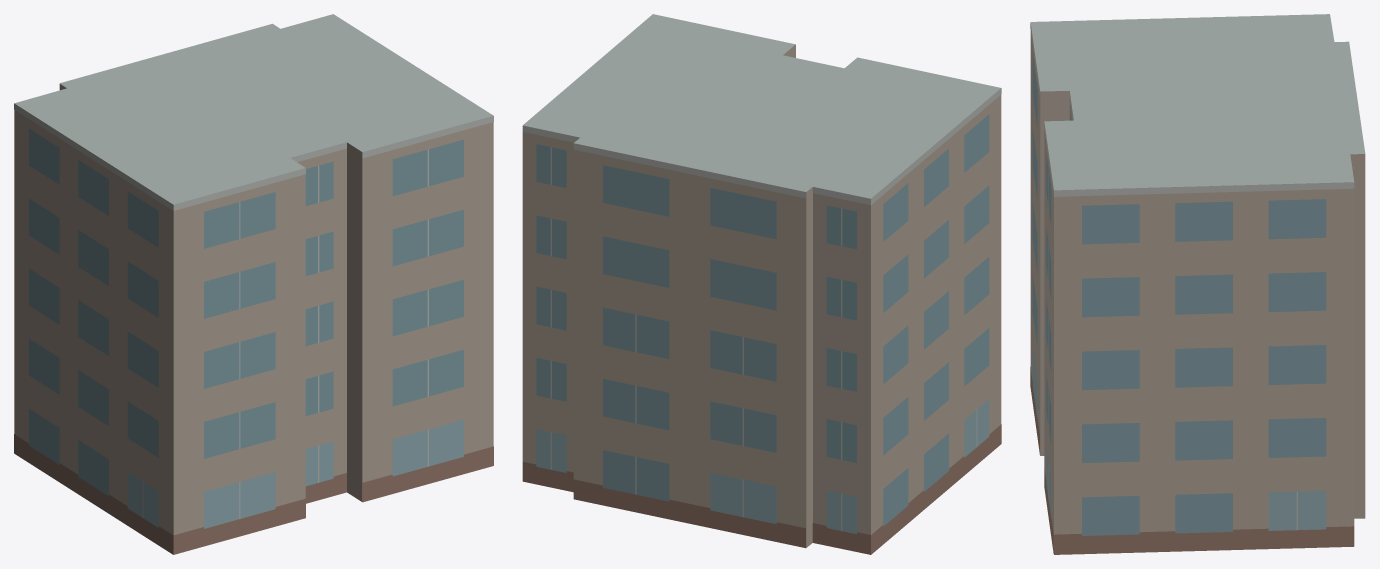
The model's file is survey-upis-32701694.glb.
3 views of the same model, side by side, from view 1: azimuth 30°, elevation 25°; view 2: azimuth 150°, elevation 25°; view 3: azimuth 270°, elevation 25° (orthographic). The views are drawn at different scales.
Visible parts, largest first — view 1: survey-upis-32701694.tmp; view 2: survey-upis-32701694.tmp; view 3: survey-upis-32701694.tmp.
Part boxes in pixels (box(x1,y1,x2,y2)): survey-upis-32701694.tmp: box(14, 14, 493, 554); survey-upis-32701694.tmp: box(522, 14, 1001, 554); survey-upis-32701694.tmp: box(1030, 14, 1365, 554).
Size of the model in its own units: 14.17 by 13.65 by 11.38.
